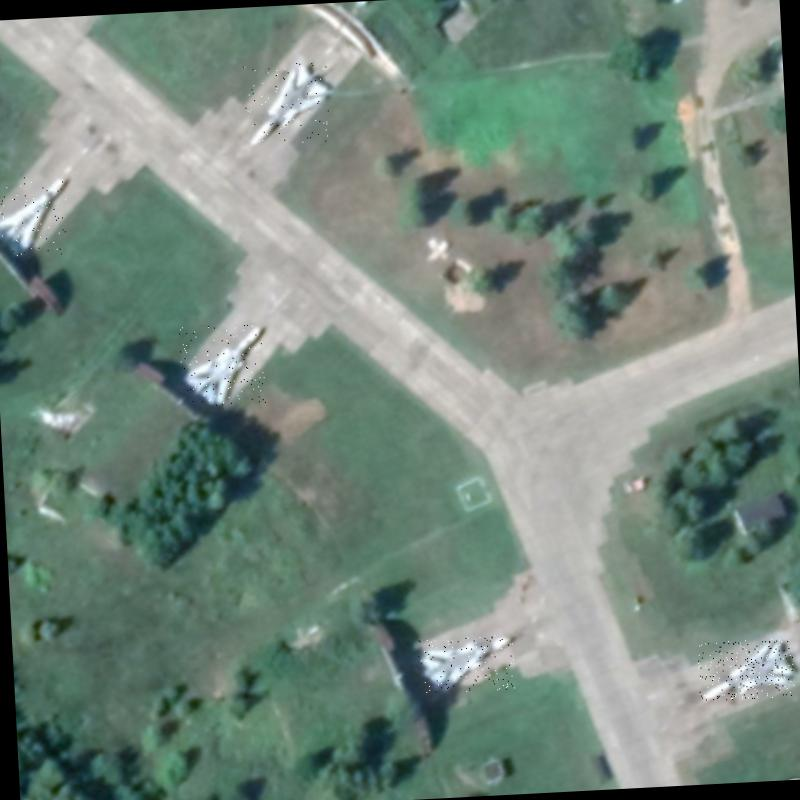A20: (179, 323, 266, 407), (244, 62, 332, 145), (697, 638, 795, 702), (418, 634, 516, 694), (0, 175, 69, 259)
